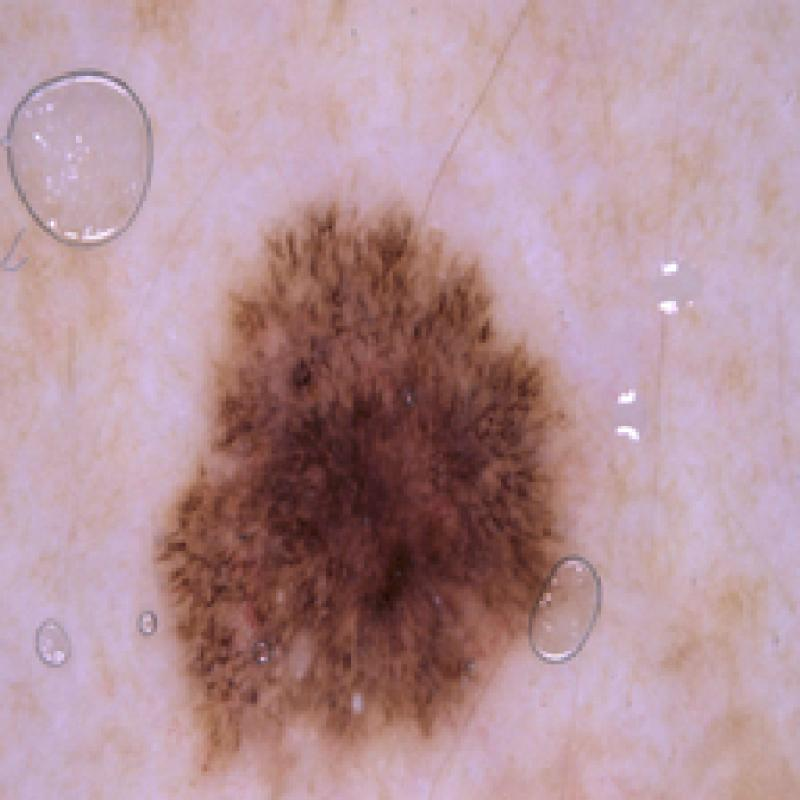benign: (150, 177, 591, 779)
